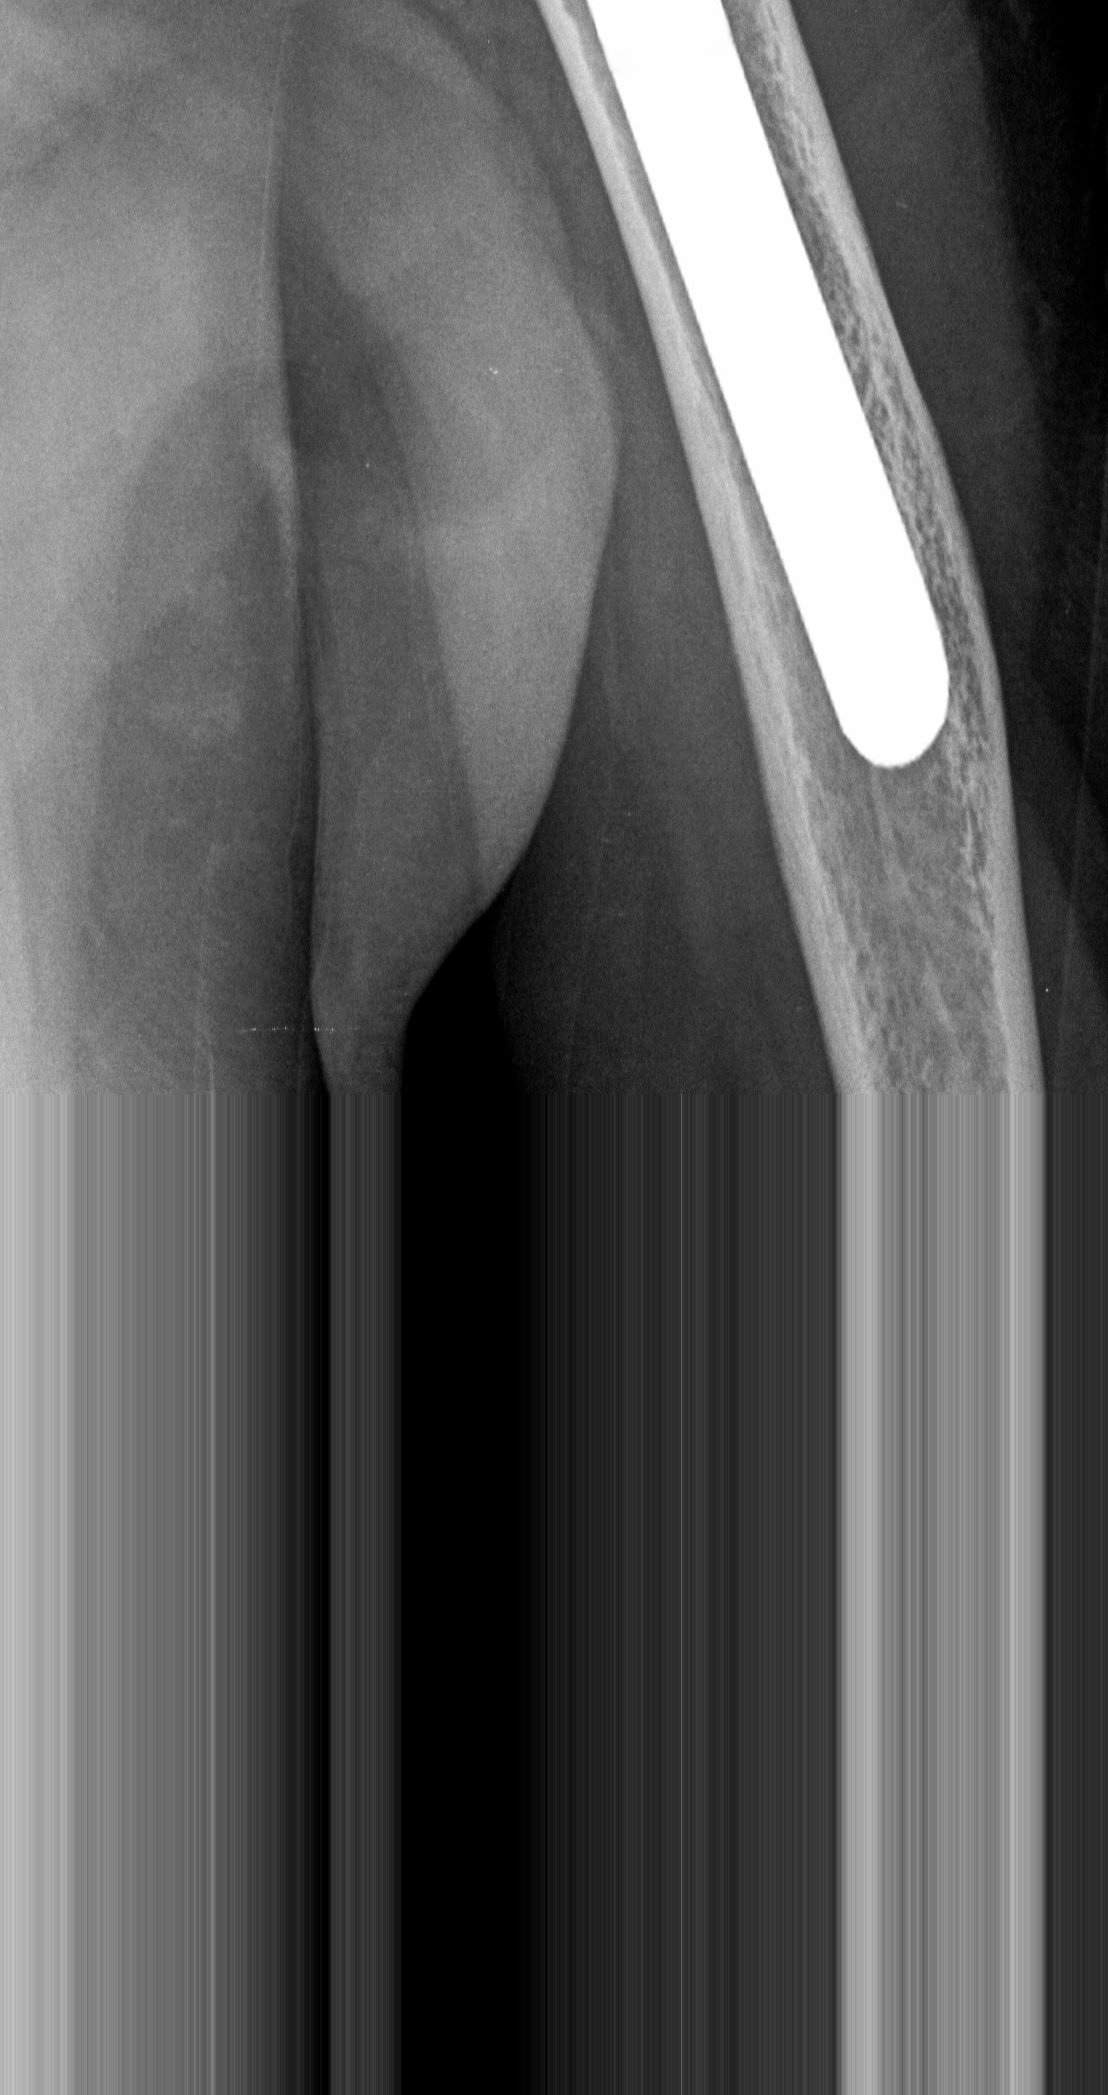Shoulder-Olympia-Wright: (561, 1, 999, 784)
